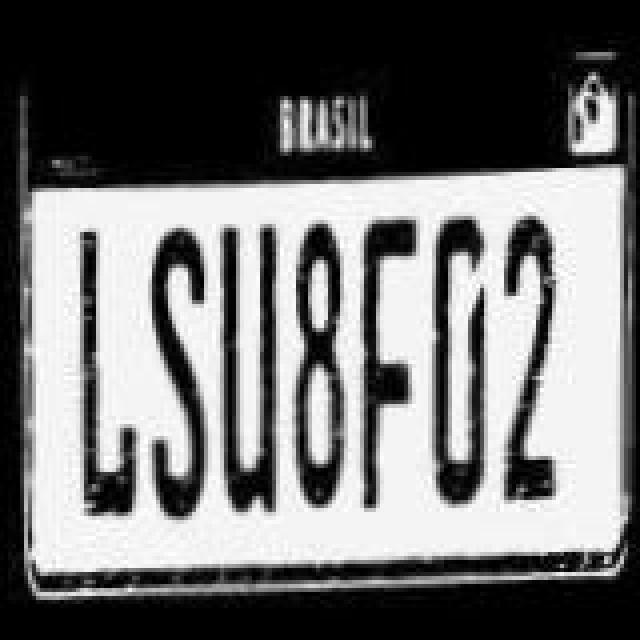2: (492, 216, 572, 504)
8: (284, 218, 356, 506)
D: (428, 210, 500, 478)
F: (352, 216, 424, 512)
L: (64, 228, 148, 524)
S: (146, 228, 214, 524)
U: (208, 222, 288, 514)
